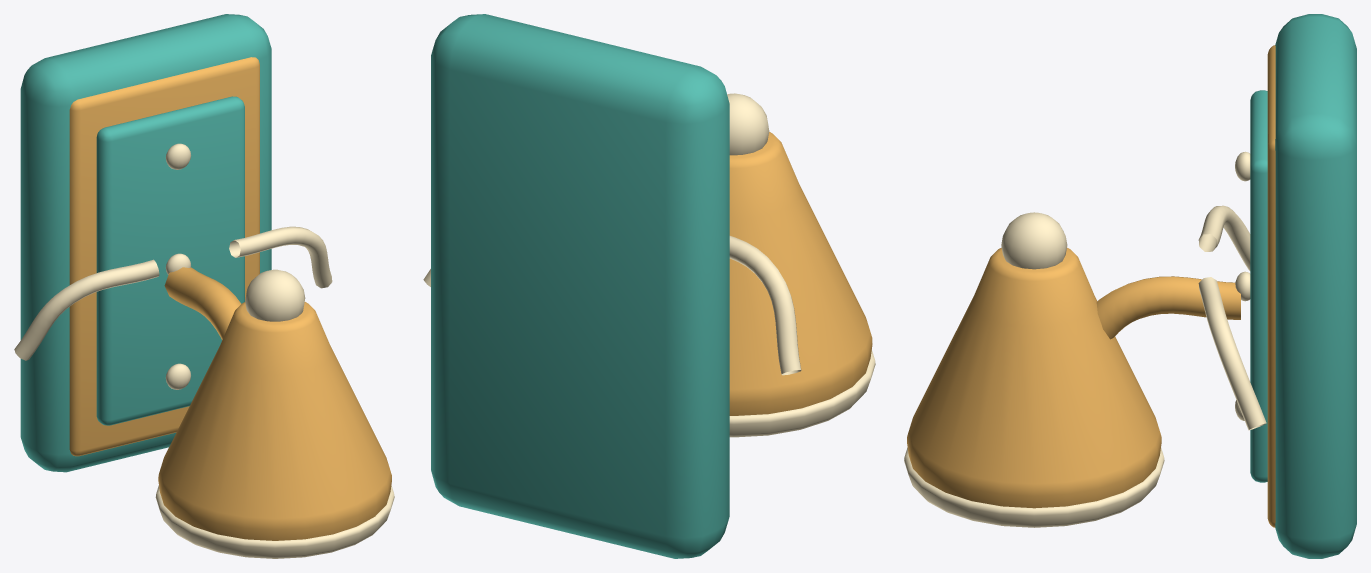
The model's file is hotelSconce.glb.
3 views of the same model, side by side, from view 1: azimuth 30°, elevation 25°; view 2: azimuth 150°, elevation 25°; view 3: azimuth 270°, elevation 25° (orthographic). The views are drawn at different scales.
Visible parts, largest first — view 1: hotelSconce Bellmare sconce enamel, hotelSconce Bellmare sconce brass, hotelSconce Bellmare sconce trim; view 2: hotelSconce Bellmare sconce enamel, hotelSconce Bellmare sconce brass, hotelSconce Bellmare sconce trim; view 3: hotelSconce Bellmare sconce brass, hotelSconce Bellmare sconce enamel, hotelSconce Bellmare sconce trim.
Boxes of the visible parts, x1,y1,x2,y2 form: hotelSconce Bellmare sconce enamel: (20,14,271,472); hotelSconce Bellmare sconce brass: (69,57,391,540); hotelSconce Bellmare sconce trim: (14,143,394,558); hotelSconce Bellmare sconce enamel: (431,14,729,558); hotelSconce Bellmare sconce brass: (729,132,872,415); hotelSconce Bellmare sconce trim: (423,93,875,437); hotelSconce Bellmare sconce brass: (907,45,1275,527); hotelSconce Bellmare sconce enamel: (1250,14,1356,558); hotelSconce Bellmare sconce trim: (904,151,1266,527).
Bounding box in the file's own units: 0.4814 × 0.59 × 0.5475.
